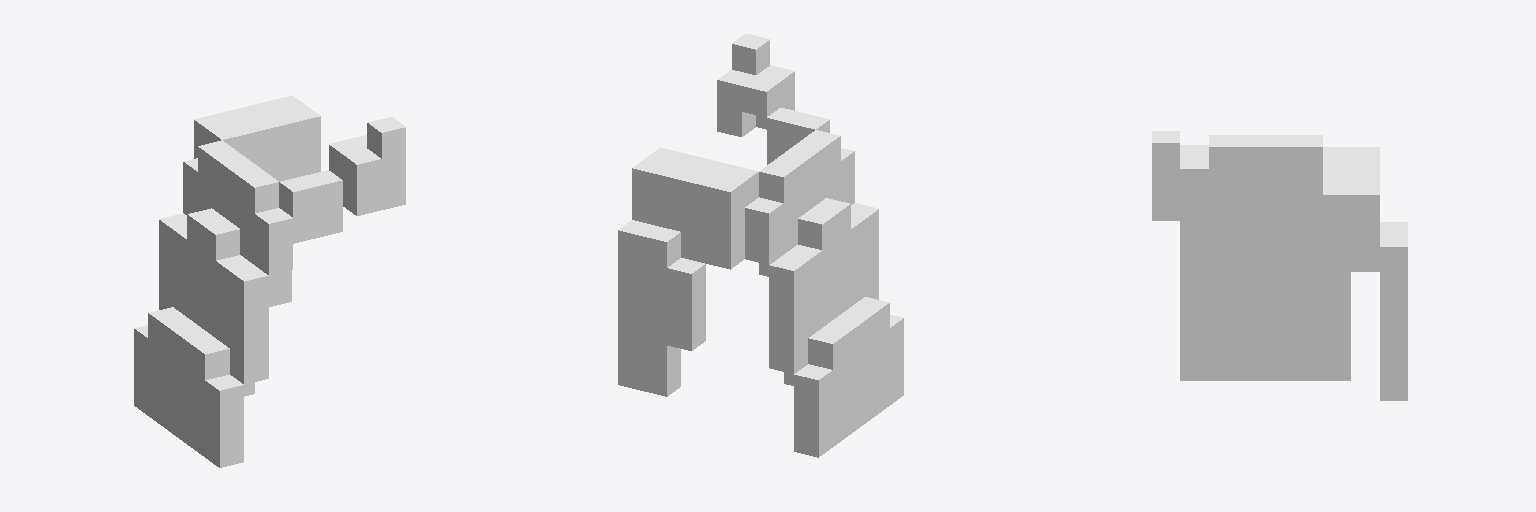
Rendered from stanciRight.obj.
The picture shows the model from 3 angles: view 1: azimuth 30°, elevation 25°; view 2: azimuth 150°, elevation 25°; view 3: azimuth 270°, elevation 25°; orthographic projection.
Parts seen in each view (by area): view 1: object 1; view 2: object 1; view 3: object 1.
Part boxes in pixels (bbox=[...]): object 1: bbox=[134, 95, 405, 467]; object 1: bbox=[618, 34, 903, 457]; object 1: bbox=[1152, 131, 1407, 400].
Size of the model in its own units: 0.7 by 1.2 by 0.9.